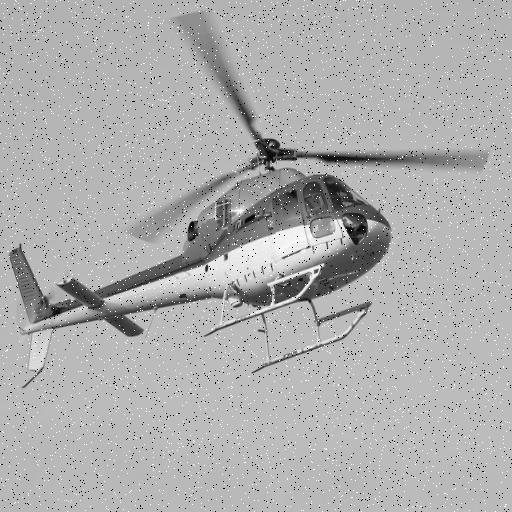helicopter: (10, 9, 491, 385)
